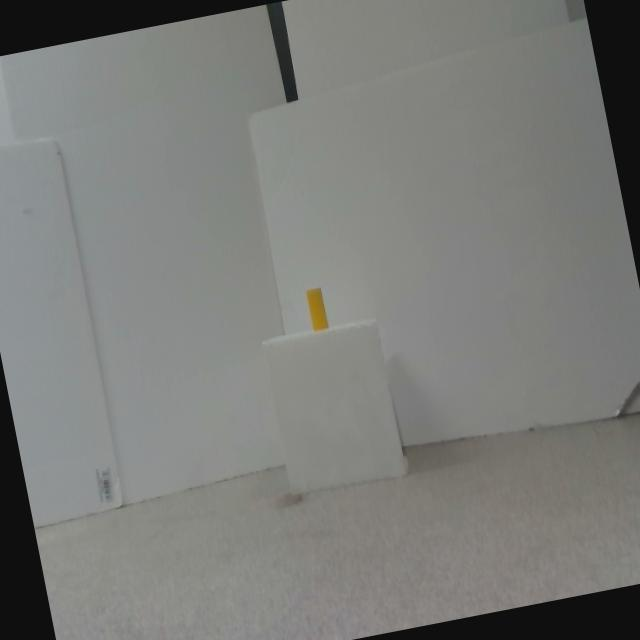yellow_cylinder: (306, 287, 330, 332)
